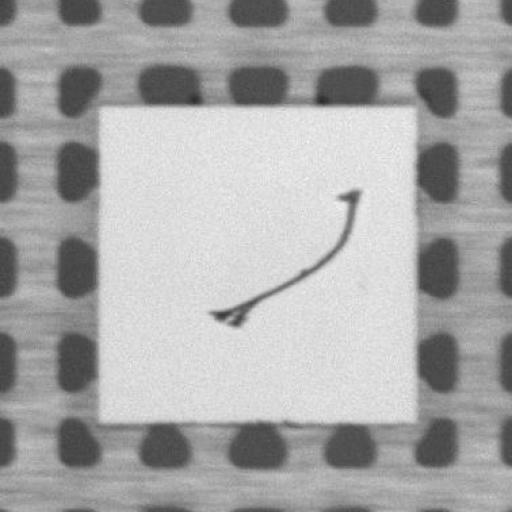DIE_INK: (182, 183, 388, 337)
